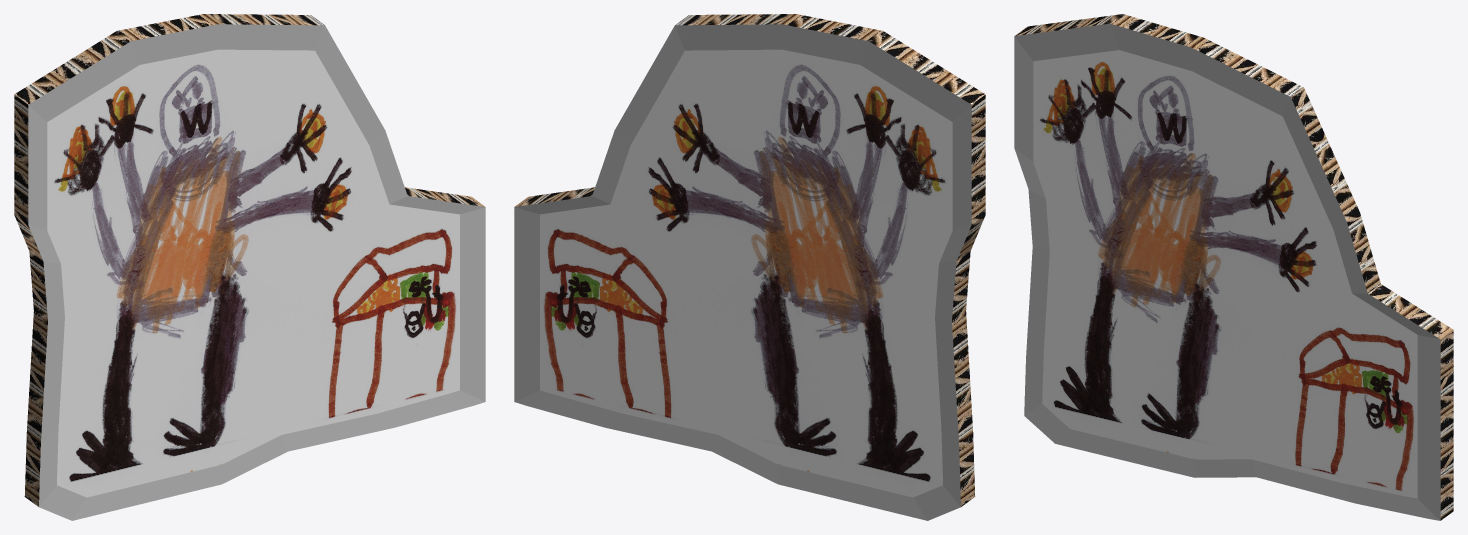
File: AarrearkkuAndroidi.fbx
3 views of the same model, side by side, from view 1: azimuth 30°, elevation 25°; view 2: azimuth 150°, elevation 25°; view 3: azimuth 330°, elevation 25° (orthographic). The views are drawn at different scales.
Visible parts, largest first — view 1: AarrearkkuAndroidi; view 2: AarrearkkuAndroidi; view 3: AarrearkkuAndroidi.
Boxes of the visible parts, <box> form: AarrearkkuAndroidi: <box>14,14,485,520</box>; AarrearkkuAndroidi: <box>514,14,985,520</box>; AarrearkkuAndroidi: <box>1014,14,1453,520</box>.
Bounding box in the file's own units: 222 × 216 × 11.87.
